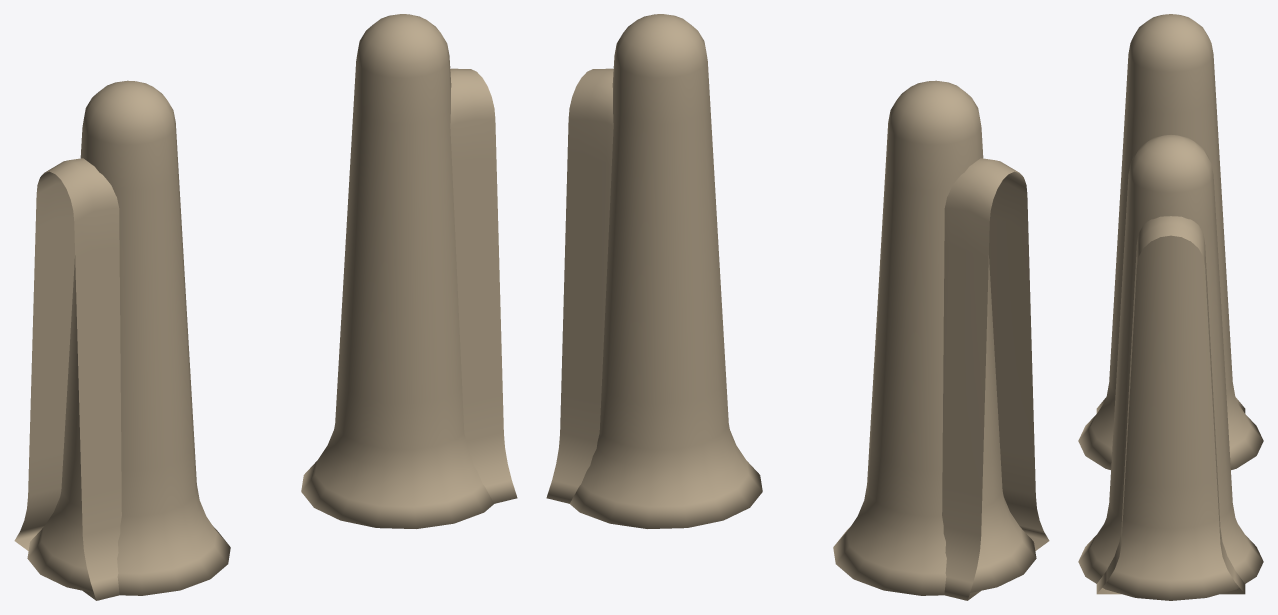
The model's file is KFB_Wall_gate.r3.glb.
The picture shows the model from 3 angles, left to right: view 1: azimuth 30°, elevation 25°; view 2: azimuth 150°, elevation 25°; view 3: azimuth 270°, elevation 25°; orthographic projection. The views are drawn at different scales.
Parts seen in each view (by area): view 1: KFB_Wall_gate; view 2: KFB_Wall_gate; view 3: KFB_Wall_gate.
Boxes of the visible parts, <box> form: KFB_Wall_gate: <box>14,14,517,600</box>; KFB_Wall_gate: <box>546,14,1049,600</box>; KFB_Wall_gate: <box>1078,14,1263,600</box>.
Size of the model in its own units: 4.29 by 4.25 by 1.69.
